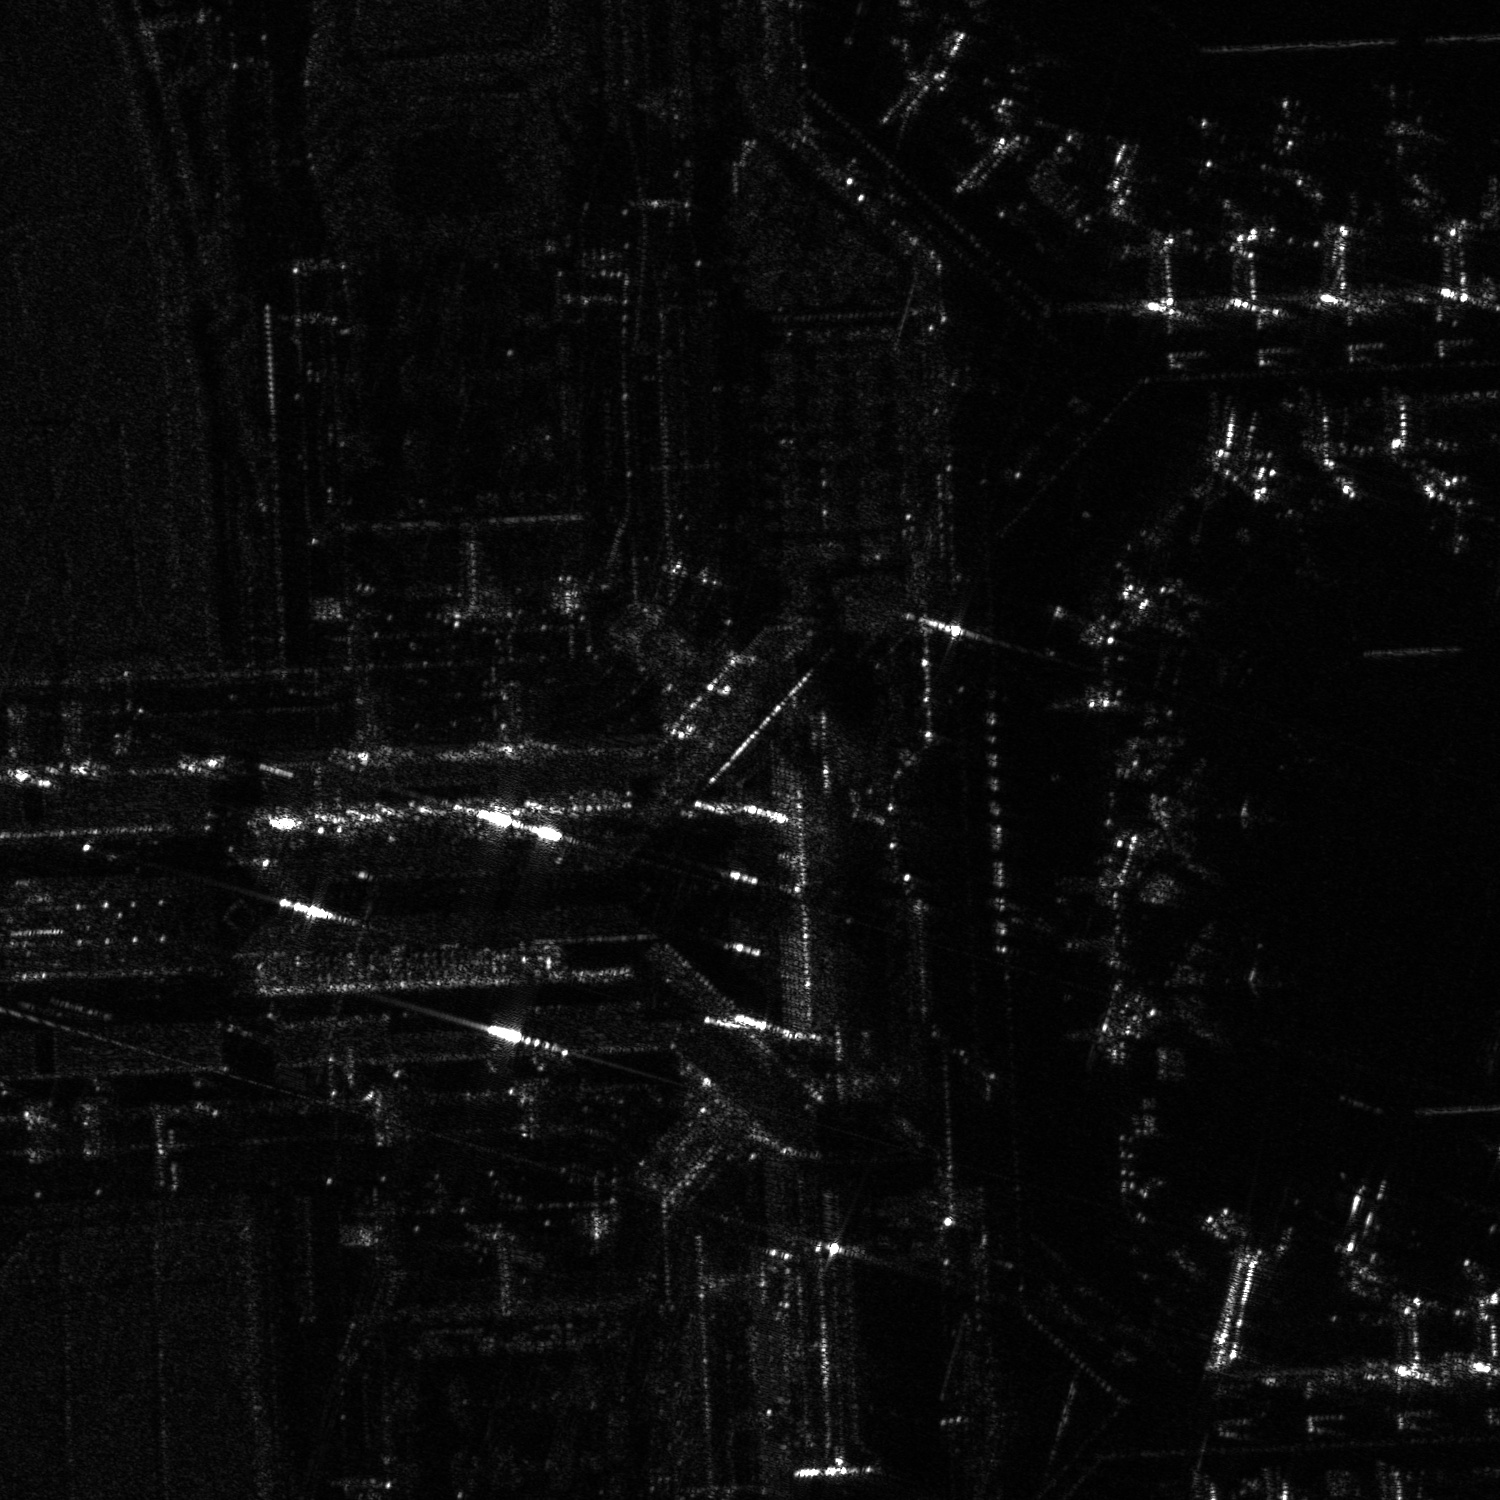A220: (1184, 114, 1251, 213)
A320/321: (1104, 920, 1262, 1045), (1098, 757, 1251, 885), (1372, 91, 1455, 168)
Boeing787: (1423, 477, 1496, 562)
other: (1265, 98, 1350, 210)
